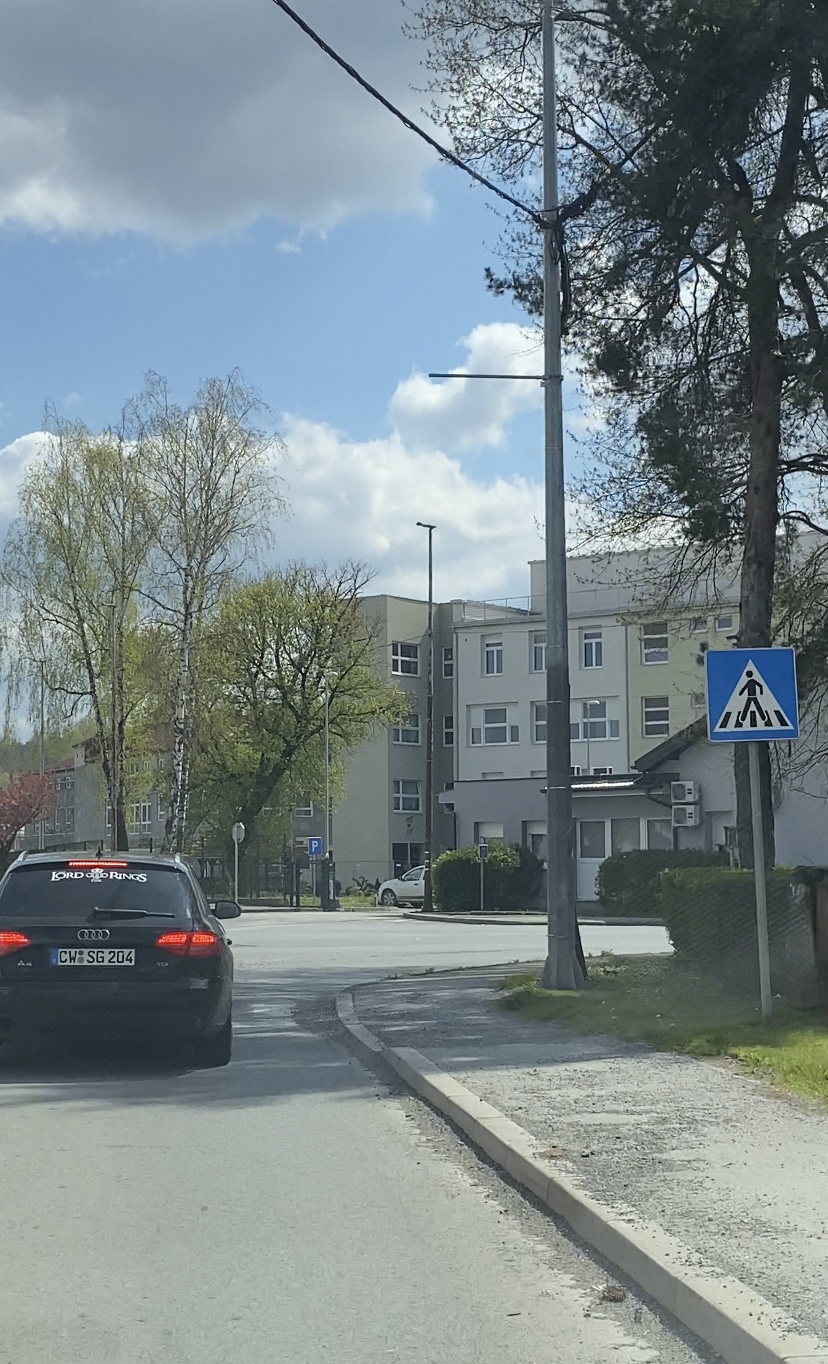Pješački prijelaz: (704, 646, 800, 743)
